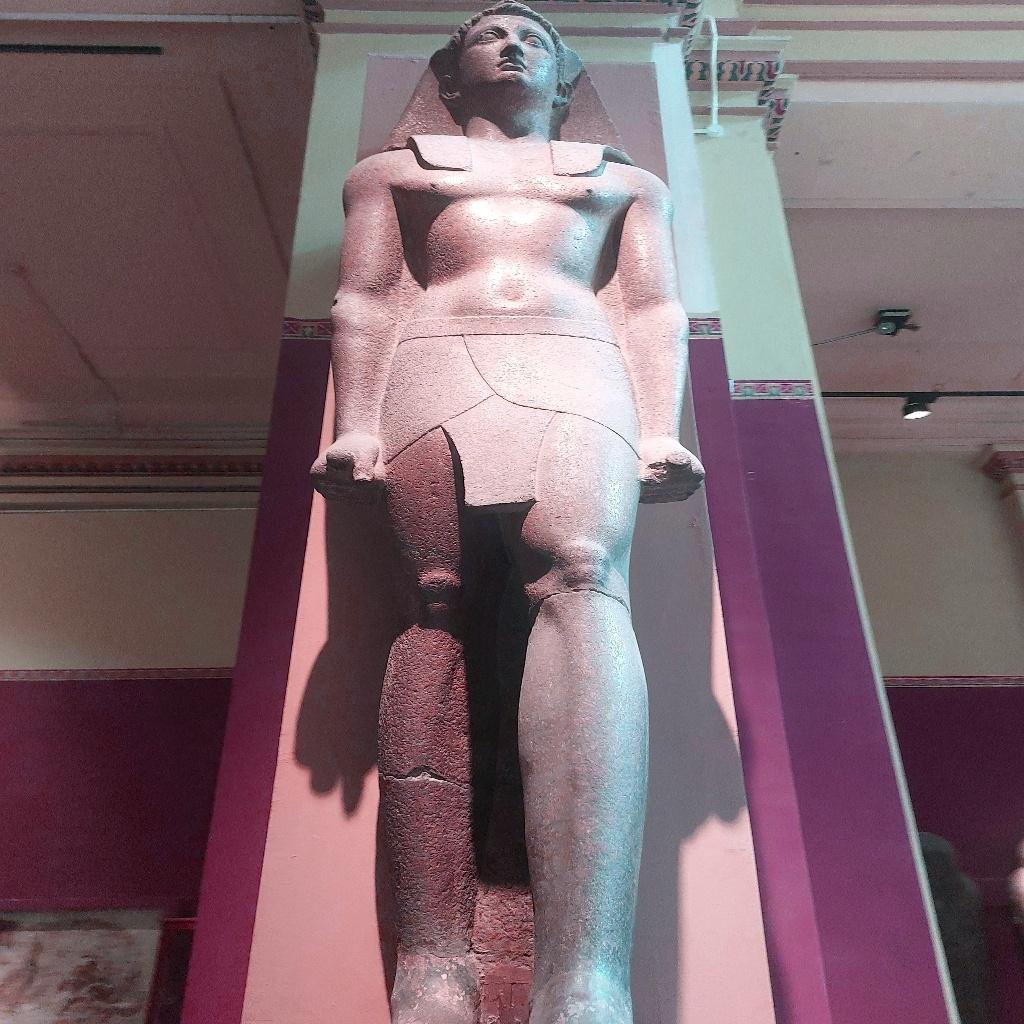Augustus: (307, 2, 707, 1022)
